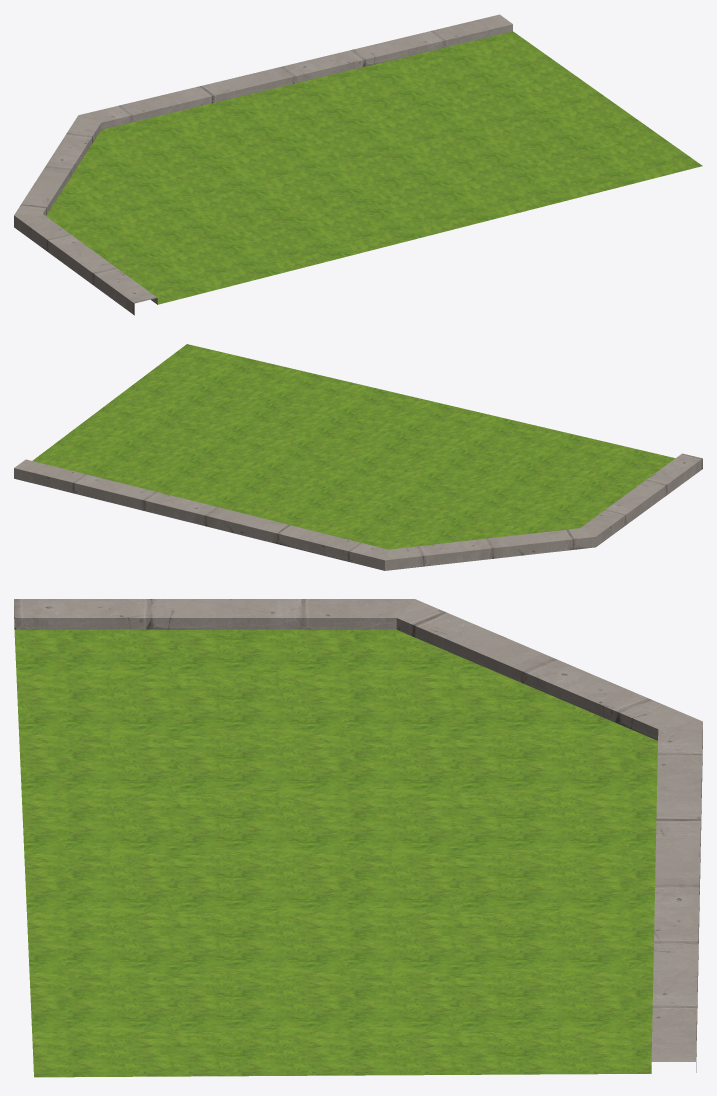
File: GrassTile_C.fbx
The picture shows the model from 3 angles, top to bottom: view 1: azimuth 30°, elevation 25°; view 2: azimuth 150°, elevation 25°; view 3: azimuth 270°, elevation 25°; orthographic projection. The views are drawn at different scales.
Parts seen in each view (by area): view 1: GrassTile_C; view 2: GrassTile_C; view 3: GrassTile_C.
Part boxes in pixels (<box>): GrassTile_C: <box>14,14,702,315</box>; GrassTile_C: <box>14,344,702,570</box>; GrassTile_C: <box>14,599,702,1077</box>.
Bounding box in the file's own units: 1716 × 33.99 × 1071.
2 materials, 2 textured.
